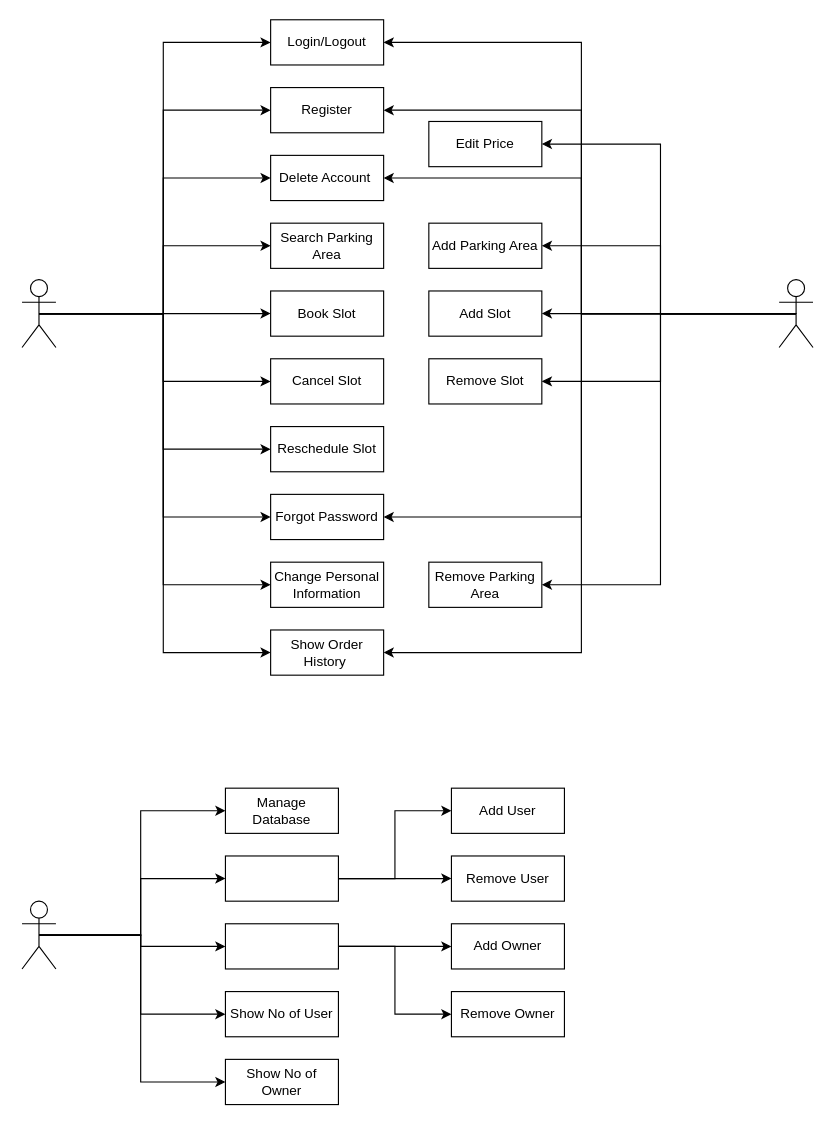
The diagram is 835 pixels wide and 1124 high, and some of its shapes have lost their labels. The box of each missing label's shape, as (x1, y1, x2, y2) in pixels:
Admin: (21, 900, 56, 969)
Manage Owner's: (224, 923, 338, 969)
Manage User's: (224, 855, 338, 901)
Owner: (778, 279, 813, 347)
User: (21, 279, 56, 347)
